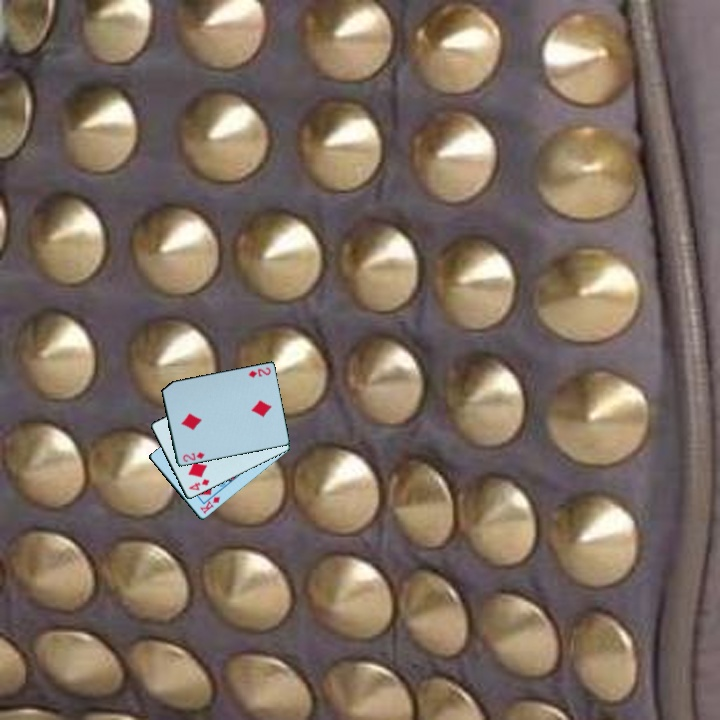2d: (179, 449, 207, 465), (245, 364, 273, 380)
4d: (185, 476, 212, 493)
Kd: (196, 493, 223, 517)
